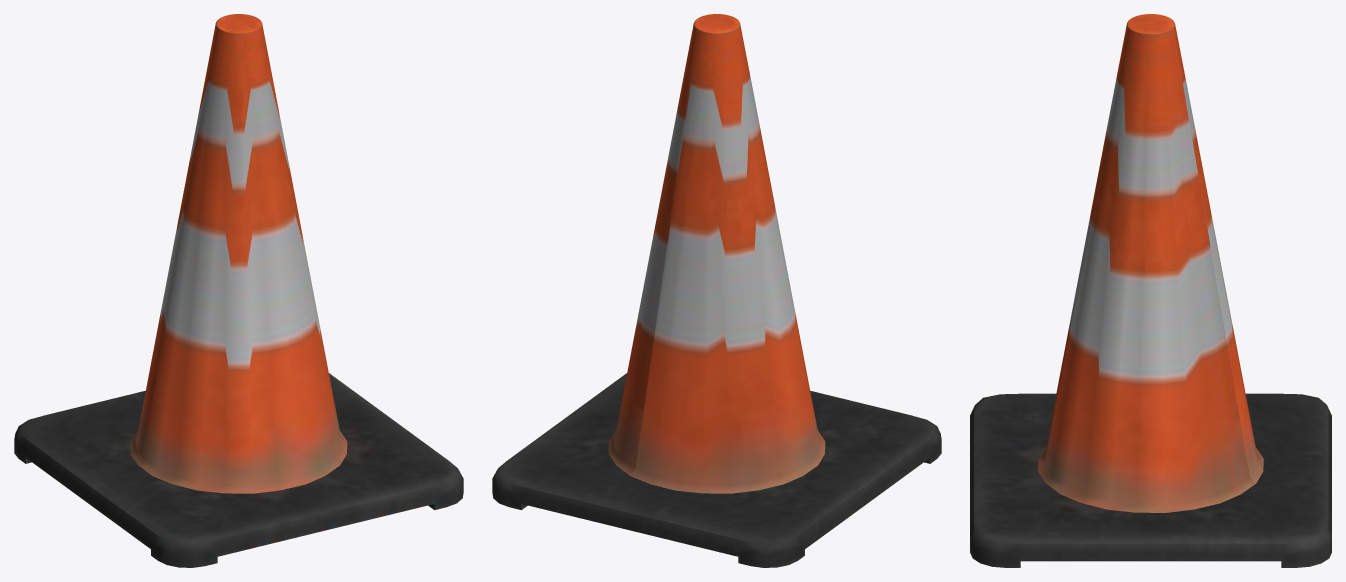
The picture shows the model from 3 angles, left to right: view 1: azimuth 30°, elevation 25°; view 2: azimuth 150°, elevation 25°; view 3: azimuth 270°, elevation 25°; orthographic projection. The views are drawn at different scales.
Parts seen in each view (by area): view 1: GEN_cone; view 2: GEN_cone; view 3: GEN_cone.
Boxes of the visible parts, x1=… form: GEN_cone: x1=14, y1=14, x2=463, y2=567; GEN_cone: x1=492, y1=14, x2=941, y2=567; GEN_cone: x1=970, y1=14, x2=1331, y2=567.
Size of the model in its own units: 0.5258 by 0.75 by 0.5258.
1 material, 1 textured.
